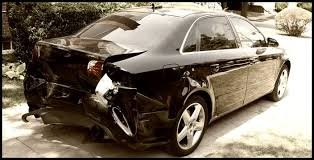Dent: (21, 43, 139, 137)
